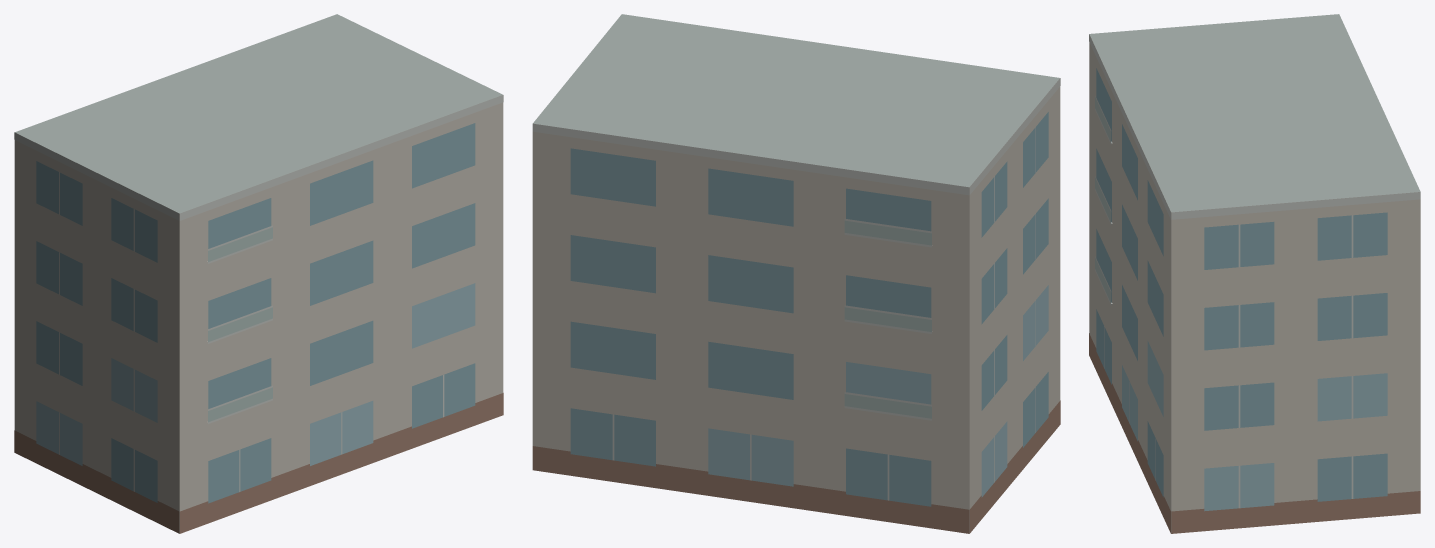
Rendered from survey-upis-32980212.glb.
The picture shows the model from 3 angles, left to right: view 1: azimuth 30°, elevation 25°; view 2: azimuth 150°, elevation 25°; view 3: azimuth 270°, elevation 25°; orthographic projection. The views are drawn at different scales.
Parts seen in each view (by area): view 1: survey-upis-32980212.tmp; view 2: survey-upis-32980212.tmp; view 3: survey-upis-32980212.tmp.
Part boxes in pixels (x1,y1,x2,y2): survey-upis-32980212.tmp: (14, 14, 503, 533); survey-upis-32980212.tmp: (532, 14, 1060, 533); survey-upis-32980212.tmp: (1089, 14, 1420, 533).
Size of the model in its own units: 13.91 by 10.5 by 9.82.
